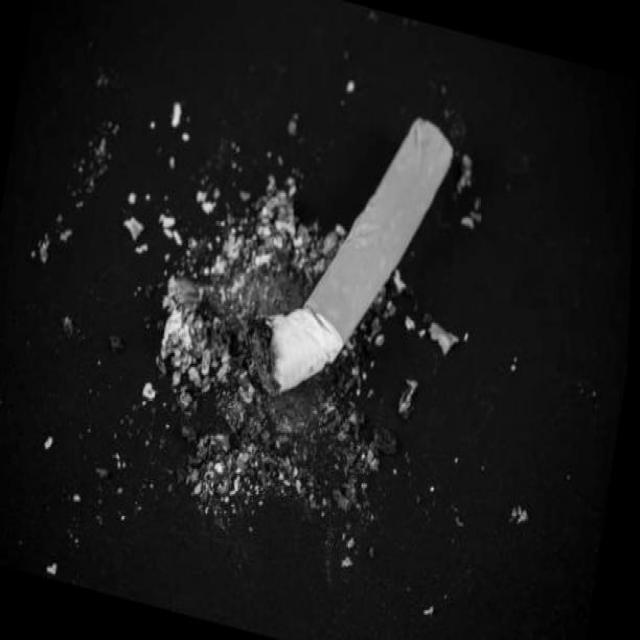cigarette: (252, 78, 464, 430)
